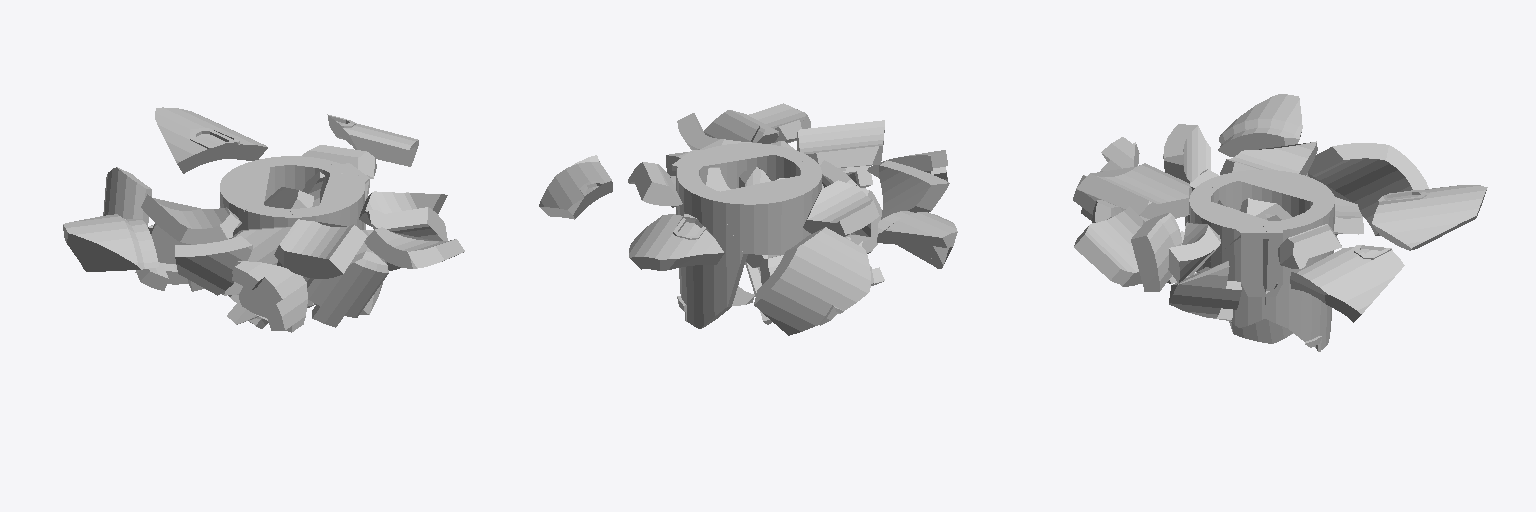
Rendered from destruction_tower_000061.obj.
The picture shows the model from 3 angles: view 1: azimuth 30°, elevation 25°; view 2: azimuth 150°, elevation 25°; view 3: azimuth 270°, elevation 25°; orthographic projection.
Visible parts, largest first — view 1: tower.001_cell.005_Mesh.005, tower.001_cell.025_Mesh.025, tower.001_cell.024_Mesh.024, tower.001_cell.006_Mesh.006, tower.001_cell.011_Mesh.011, tower.001_cell.009_Mesh.009, tower.001_cell.002_Mesh.002, tower.001_cell.021_Mesh.021, tower.001_cell.028_Mesh.028, tower.001_cell.012_Mesh.012, tower.001_cell.015_Mesh.015, tower.001_cell.003_Mesh.003 (+8 smaller); view 2: tower.001_cell.003_Mesh.003, tower.001_cell.015_Mesh.015, tower.001_cell.017_Mesh.017, tower.001_cell.025_Mesh.025, tower.001_cell.024_Mesh.024, tower.001_cell.005_Mesh.005, tower.001_cell.028_Mesh.028, tower.001_cell.012_Mesh.012, tower.001_cell.009_Mesh.009, tower.001_cell.002_Mesh.002, tower.001_cell_Mesh, tower.001_cell.016_Mesh.016 (+6 smaller); view 3: tower.001_cell.003_Mesh.003, tower.001_cell.025_Mesh.025, tower.001_cell.012_Mesh.012, tower.001_cell.024_Mesh.024, tower.001_cell.005_Mesh.005, tower.001_cell.021_Mesh.021, tower.001_cell.020_Mesh.020, tower.001_cell.017_Mesh.017, tower.001_cell.015_Mesh.015, tower.001_cell.030_Mesh.030, tower.001_cell_Mesh, tower.001_cell.028_Mesh.028 (+10 smaller).
Part boxes in pixels (left/top/right/bottom): tower.001_cell.005_Mesh.005: left=63, top=214, right=158, bottom=271; tower.001_cell.025_Mesh.025: left=155, top=107, right=267, bottom=173; tower.001_cell.024_Mesh.024: left=274, top=219, right=367, bottom=278; tower.001_cell.006_Mesh.006: left=232, top=261, right=307, bottom=332; tower.001_cell.011_Mesh.011: left=307, top=251, right=388, bottom=327; tower.001_cell.009_Mesh.009: left=141, top=194, right=241, bottom=244; tower.001_cell.002_Mesh.002: left=175, top=236, right=252, bottom=295; tower.001_cell.021_Mesh.021: left=364, top=227, right=464, bottom=268; tower.001_cell.028_Mesh.028: left=289, top=173, right=369, bottom=229; tower.001_cell.012_Mesh.012: left=327, top=114, right=418, bottom=166; tower.001_cell.015_Mesh.015: left=220, top=161, right=269, bottom=235; tower.001_cell.003_Mesh.003: left=103, top=167, right=151, bottom=226; tower.001_cell.003_Mesh.003: left=754, top=227, right=870, bottom=335; tower.001_cell.015_Mesh.015: left=716, top=175, right=820, bottom=254; tower.001_cell.017_Mesh.017: left=677, top=169, right=747, bottom=328; tower.001_cell.025_Mesh.025: left=629, top=214, right=724, bottom=270; tower.001_cell.024_Mesh.024: left=797, top=120, right=884, bottom=170; tower.001_cell.005_Mesh.005: left=877, top=211, right=957, bottom=268; tower.001_cell.028_Mesh.028: left=692, top=143, right=810, bottom=188; tower.001_cell.012_Mesh.012: left=539, top=155, right=612, bottom=219; tower.001_cell.009_Mesh.009: left=803, top=180, right=879, bottom=236; tower.001_cell.002_Mesh.002: left=879, top=160, right=949, bottom=219; tower.001_cell_Mesh: left=704, top=110, right=778, bottom=143; tower.001_cell.016_Mesh.016: left=628, top=162, right=682, bottom=205; tower.001_cell.003_Mesh.003: left=1308, top=143, right=1428, bottom=235; tower.001_cell.025_Mesh.025: left=1372, top=185, right=1487, bottom=250; tower.001_cell.012_Mesh.012: left=1290, top=245, right=1404, bottom=322; tower.001_cell.024_Mesh.024: left=1076, top=163, right=1192, bottom=218; tower.001_cell.005_Mesh.005: left=1218, top=94, right=1302, bottom=156; tower.001_cell.021_Mesh.021: left=1074, top=206, right=1144, bottom=286; tower.001_cell.020_Mesh.020: left=1206, top=228, right=1268, bottom=327; tower.001_cell.017_Mesh.017: left=1289, top=199, right=1334, bottom=351; tower.001_cell.015_Mesh.015: left=1239, top=170, right=1334, bottom=216; tower.001_cell.030_Mesh.030: left=1169, top=261, right=1241, bottom=320; tower.001_cell_Mesh: left=1131, top=213, right=1181, bottom=291; tower.001_cell.028_Mesh.028: left=1189, top=186, right=1268, bottom=271.
Size of the model in its own units: 128 by 46.57 by 122.